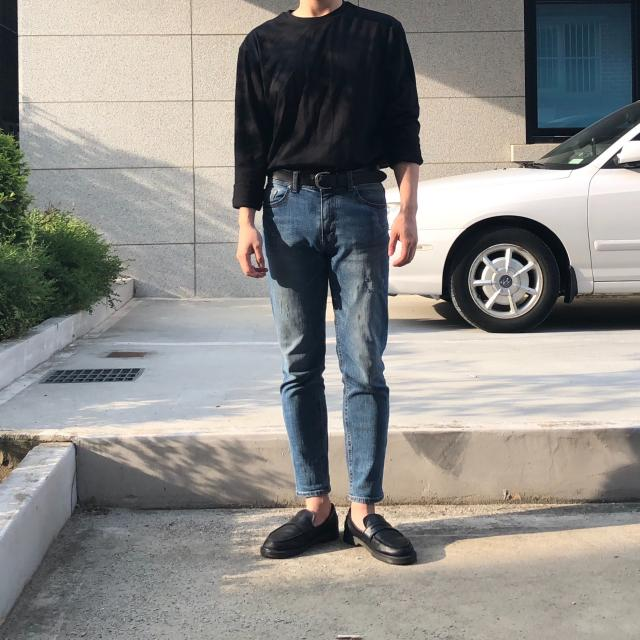denimpants: (259, 168, 390, 500)
longsleeve: (233, 5, 423, 214)
